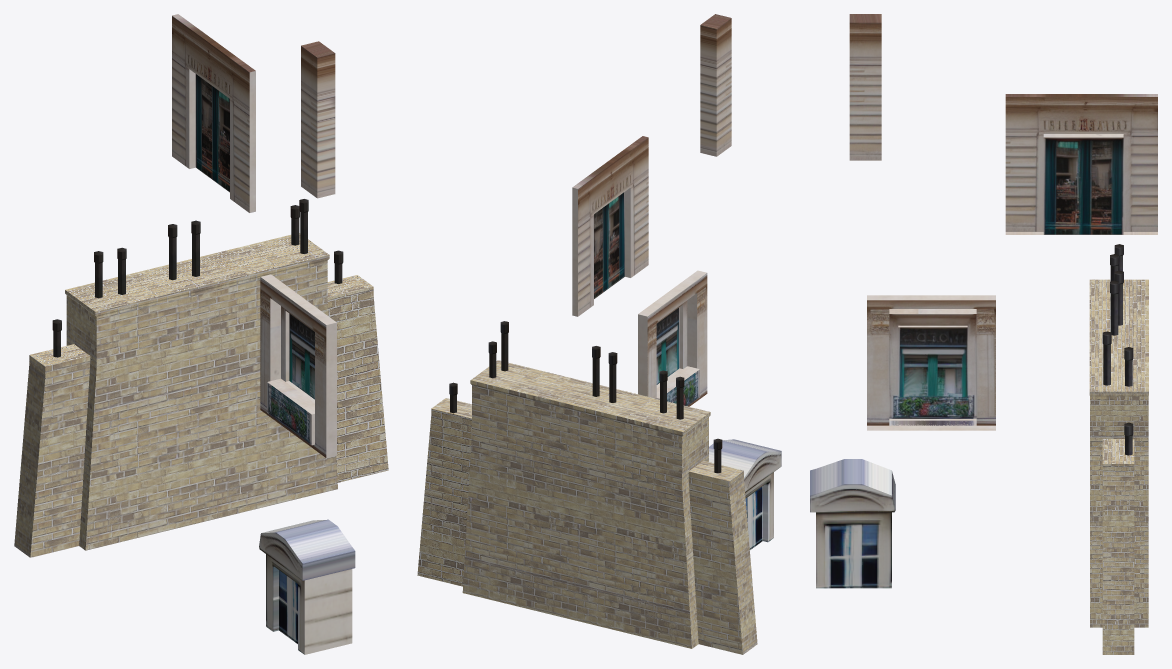
File: BuildingBmodules.fbx
3 views of the same model, side by side, from view 1: azimuth 30°, elevation 25°; view 2: azimuth 150°, elevation 25°; view 3: azimuth 270°, elevation 25° (orthographic). The views are drawn at different scales.
Visible parts, largest first — view 1: pCylinder9, pPlane197, pPlane136, pPlane252, pPlane198; view 2: pCylinder9, pPlane197, pPlane136, pPlane198, pPlane252; view 3: pCylinder9, pPlane197, pPlane136, pPlane252, pPlane198.
Boxes of the visible parts, x1=… form: pCylinder9: x1=14, y1=199, x2=388, y2=557; pPlane197: x1=172, y1=14, x2=255, y2=212; pPlane136: x1=260, y1=274, x2=336, y2=457; pPlane252: x1=259, y1=519, x2=355, y2=654; pPlane198: x1=301, y1=41, x2=335, y2=198; pCylinder9: x1=417, y1=321, x2=757, y2=654; pPlane197: x1=572, y1=136, x2=648, y2=316; pPlane136: x1=638, y1=270, x2=707, y2=406; pPlane198: x1=700, y1=14, x2=731, y2=156; pPlane252: x1=709, y1=439, x2=781, y2=549; pCylinder9: x1=1089, y1=244, x2=1148, y2=654; pPlane197: x1=1005, y1=94, x2=1157, y2=234; pPlane136: x1=867, y1=295, x2=995, y2=430; pPlane252: x1=810, y1=459, x2=895, y2=588; pPlane198: x1=849, y1=14, x2=881, y2=160.
Size of the model in its own units: 222 by 342 by 190.
